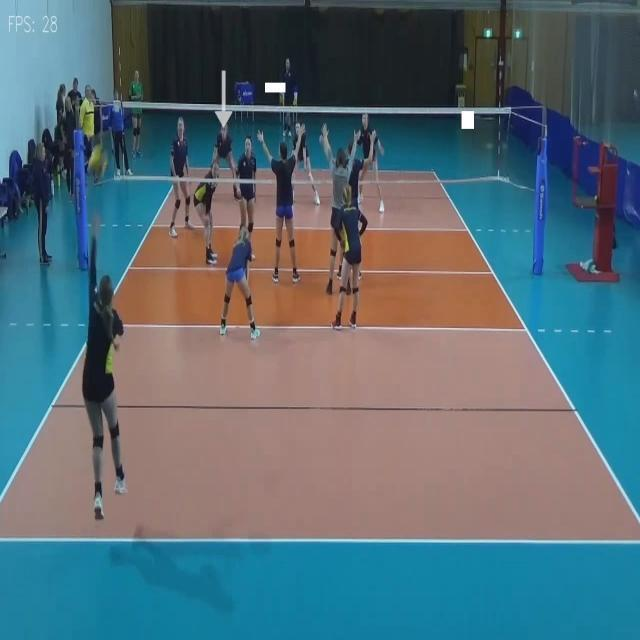volleyball: (87, 146, 107, 180)
